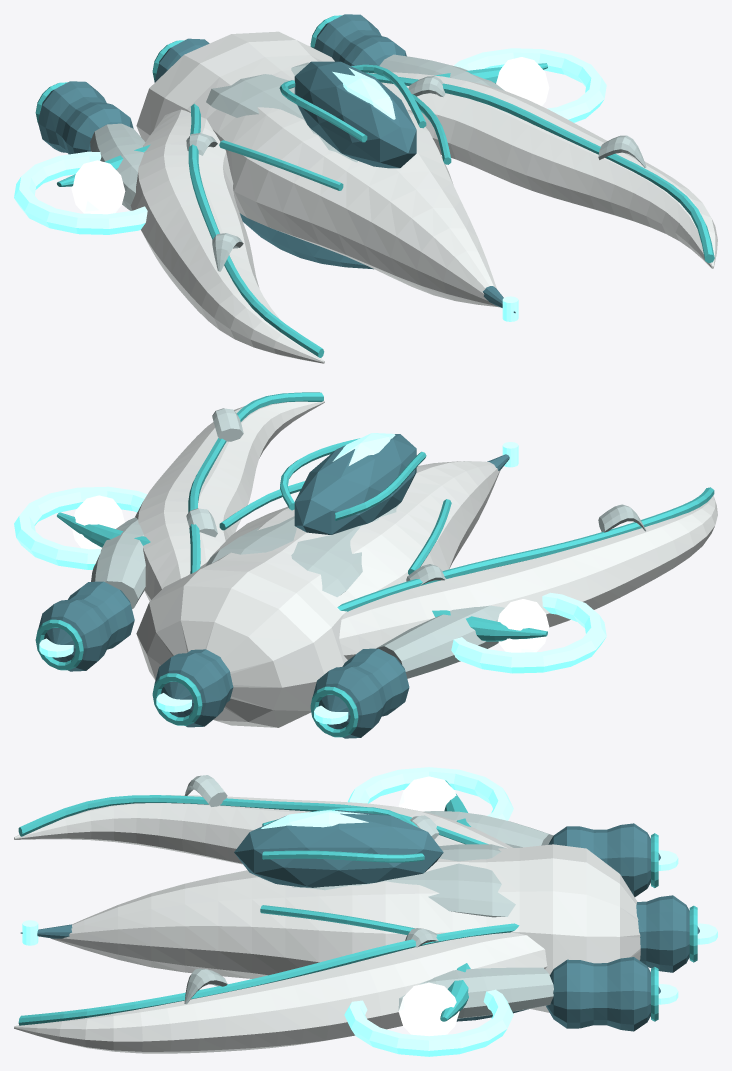
File: SL_SERAPH_LOD.glb
3 renders of one model, top to bottom at view 1: azimuth 30°, elevation 25°; view 2: azimuth 150°, elevation 25°; view 3: azimuth 270°, elevation 25°, orthographic.
Visible parts, largest first — view 1: armor, dark, accent, energy, plate, core; view 2: armor, dark, plate, accent, energy, core; view 3: armor, dark, accent, plate, energy, core.
Boxes of the visible parts, x1,y1,x2,y2 form: armor: (130,31,717,363); dark: (38,14,515,313); accent: (35,15,714,357); energy: (14,48,606,321); plate: (90,54,646,271); core: (71,57,549,214); armor: (135,400,717,727); dark: (38,434,509,738); plate: (91,408,646,678); accent: (35,392,714,737); energy: (14,433,606,724); core: (72,495,549,652); armor: (14,795,640,1053); dark: (20,810,699,1031); accent: (18,780,697,1025); plate: (184,775,553,1019); energy: (22,767,717,1056); core: (398,776,459,1036).
Size of the model in its own units: 5.39 by 1.78 by 5.77.
